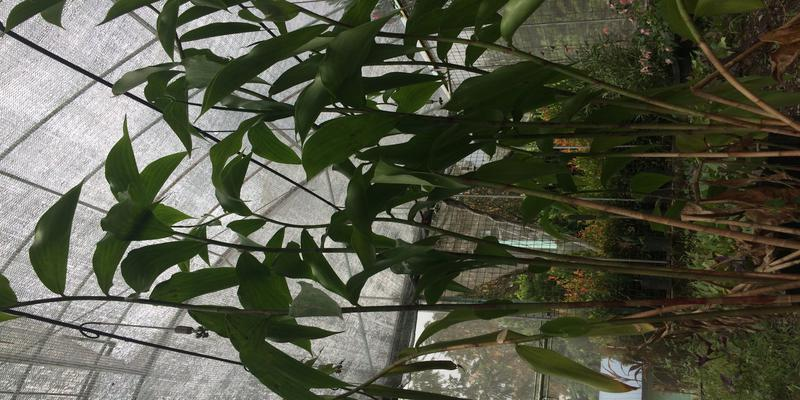Insulin: (181, 18, 767, 330)
